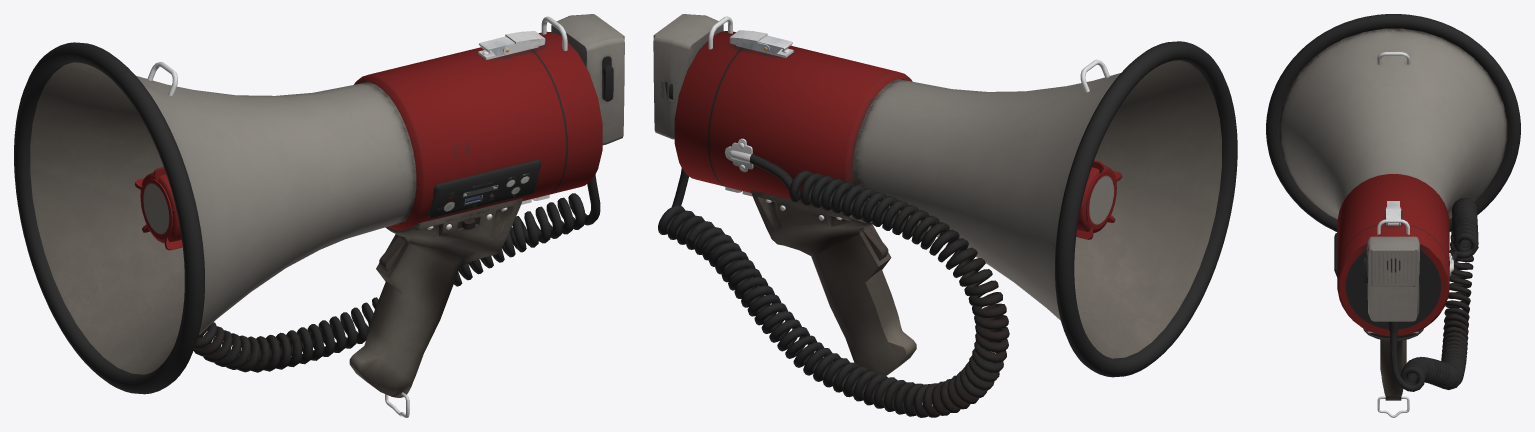
File: megaphone.glb
3 views of the same model, side by side, from view 1: azimuth 30°, elevation 25°; view 2: azimuth 150°, elevation 25°; view 3: azimuth 270°, elevation 25° (orthographic). The views are drawn at different scales.
Parts seen in each view (by area): view 1: Megaphone; view 2: Megaphone; view 3: Megaphone.
Boxes of the visible parts, bbox=[...] form: Megaphone: bbox=[14, 14, 624, 417]; Megaphone: bbox=[653, 14, 1237, 417]; Megaphone: bbox=[1266, 14, 1520, 417].
Bounding box in the file's own units: 37.07 × 30.01 × 22.85.
1 material, 1 textured.
